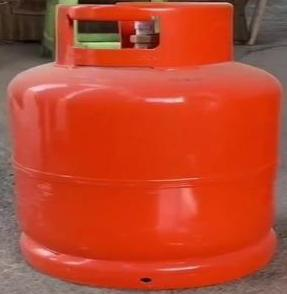cylinder: (1, 1, 287, 294)
